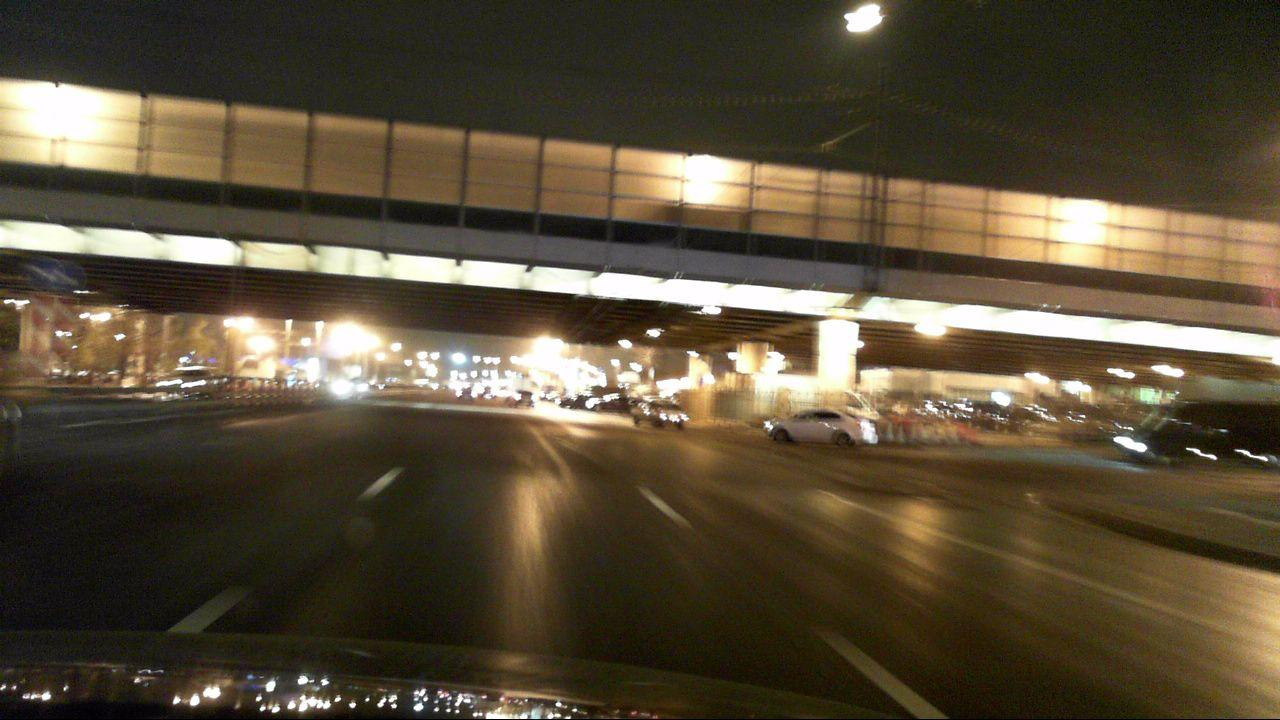4_2_1: (27, 262, 60, 294)
